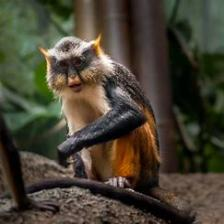monkey: (42, 35, 168, 195)
